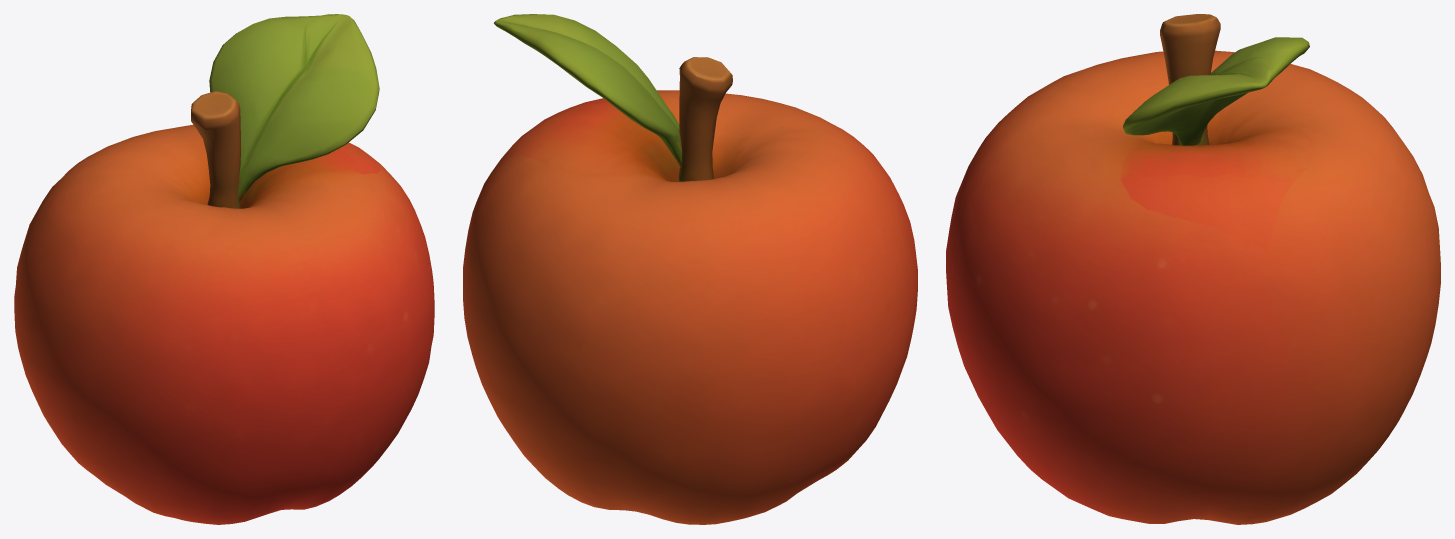
File: red-apple.glb
The picture shows the model from 3 angles, left to right: view 1: azimuth 30°, elevation 25°; view 2: azimuth 150°, elevation 25°; view 3: azimuth 270°, elevation 25°; orthographic projection. The views are drawn at different scales.
Parts seen in each view (by area): view 1: Chunky Leaf Apple; view 2: Chunky Leaf Apple; view 3: Chunky Leaf Apple.
Boxes of the visible parts, x1,y1,x2,y2 form: Chunky Leaf Apple: (14, 14, 434, 524); Chunky Leaf Apple: (463, 14, 917, 524); Chunky Leaf Apple: (946, 14, 1440, 524).
Bounding box in the file's own units: 0.9121 × 0.998 × 0.9082.
1 material, 1 textured.
